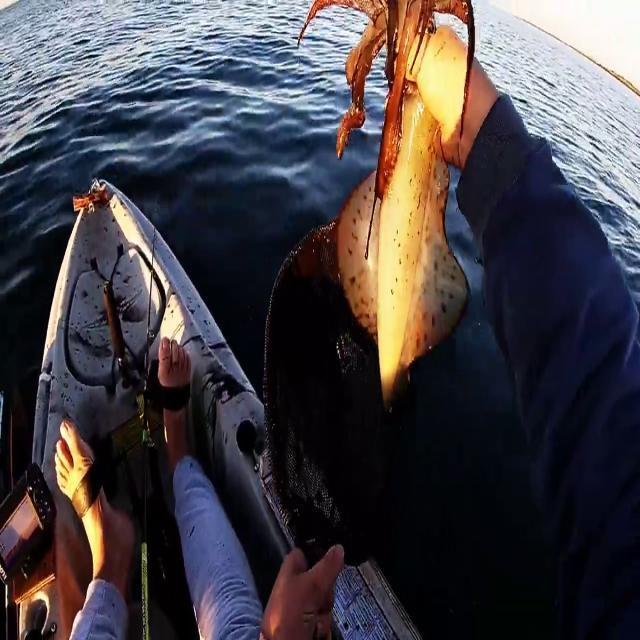SQUID: (265, 0, 515, 448)
